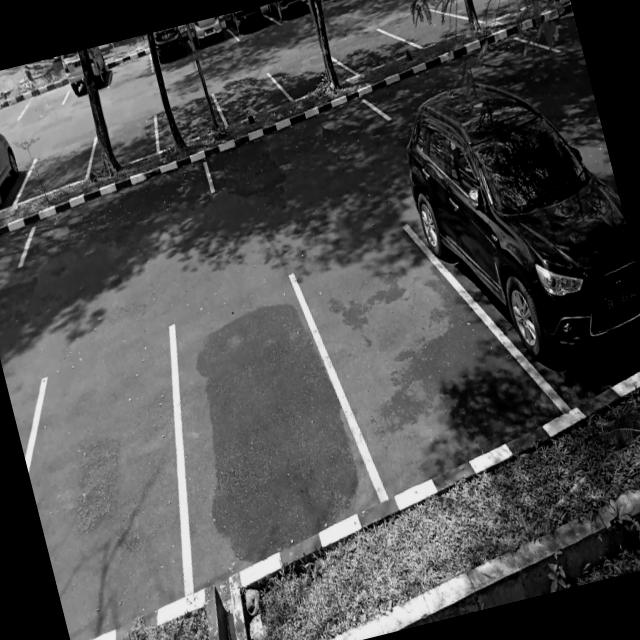car: (413, 95, 640, 416), (56, 45, 112, 101), (0, 125, 27, 221), (144, 24, 195, 69), (186, 14, 234, 54), (225, 3, 274, 42)
free: (143, 282, 375, 584), (5, 345, 214, 640), (300, 213, 515, 499), (11, 158, 220, 260), (197, 94, 394, 189), (18, 136, 103, 196), (89, 112, 166, 171), (147, 91, 225, 148), (272, 48, 348, 102), (335, 22, 408, 78), (212, 71, 285, 127), (15, 76, 71, 118), (102, 46, 154, 86)
